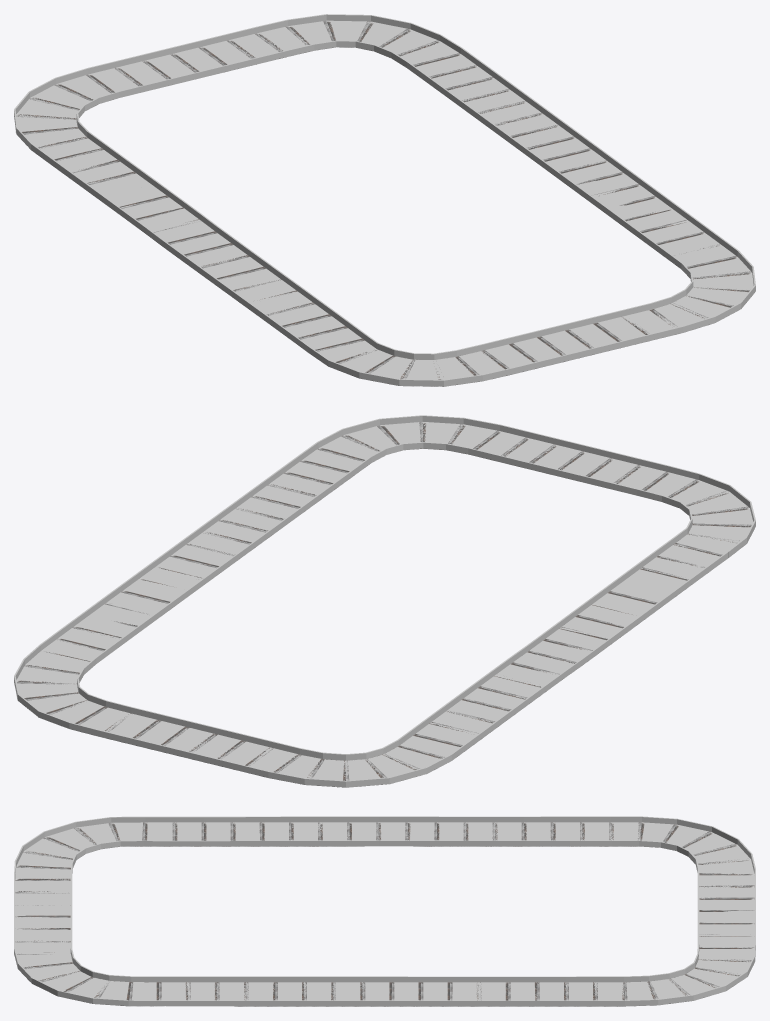
The model's file is AITrain1Applied.fbx.
3 renders of one model, top to bottom at view 1: azimuth 30°, elevation 25°; view 2: azimuth 150°, elevation 25°; view 3: azimuth 270°, elevation 25°, orthographic. The views are drawn at different scales.
Parts seen in each view (by area): view 1: TrackHolo, TrackFloor, TrackWallsAI, TrackStructure; view 2: TrackHolo, TrackFloor, TrackWallsAI, TrackStructure; view 3: TrackHolo, TrackFloor, TrackWallsAI, TrackStructure.
Boxes of the visible parts, x1,y1,x2,y2 form: TrackHolo: (16, 20, 752, 379); TrackFloor: (15, 21, 755, 386); TrackWallsAI: (14, 14, 755, 386); TrackStructure: (16, 20, 752, 386); TrackHolo: (17, 422, 753, 780); TrackFloor: (16, 422, 752, 787); TrackWallsAI: (14, 415, 755, 787); TrackStructure: (16, 421, 754, 787); TrackHolo: (15, 822, 754, 1000); TrackFloor: (15, 822, 754, 1006); TrackWallsAI: (14, 816, 755, 1006); TrackStructure: (15, 822, 754, 1006).
Bounding box in the file's own units: 30054 × 420 × 51000.
